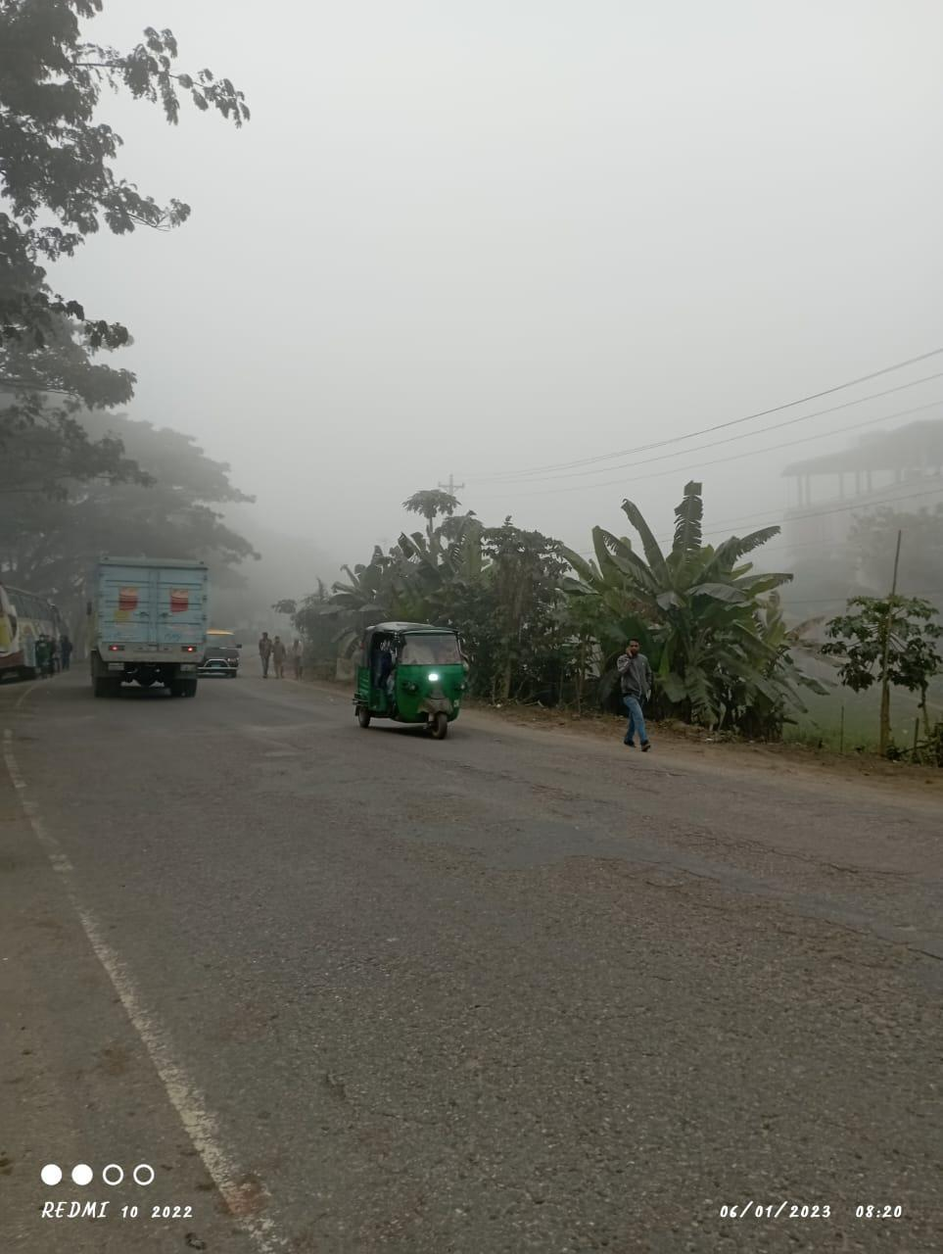Bus: (1, 572, 76, 691)
Car: (201, 619, 241, 683)
Truck: (75, 542, 232, 695)
